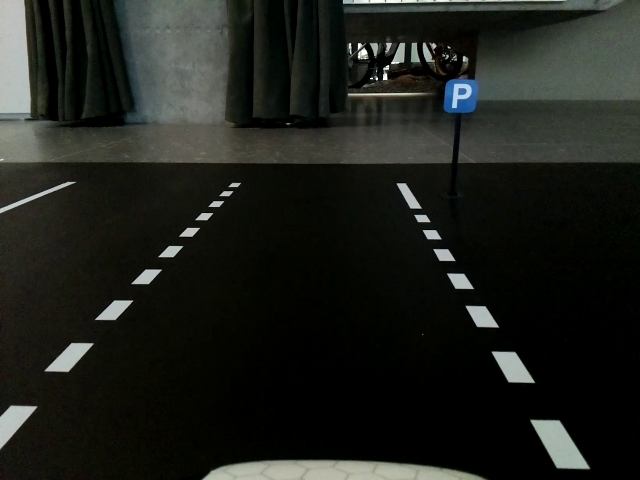park: (442, 81, 477, 112)
